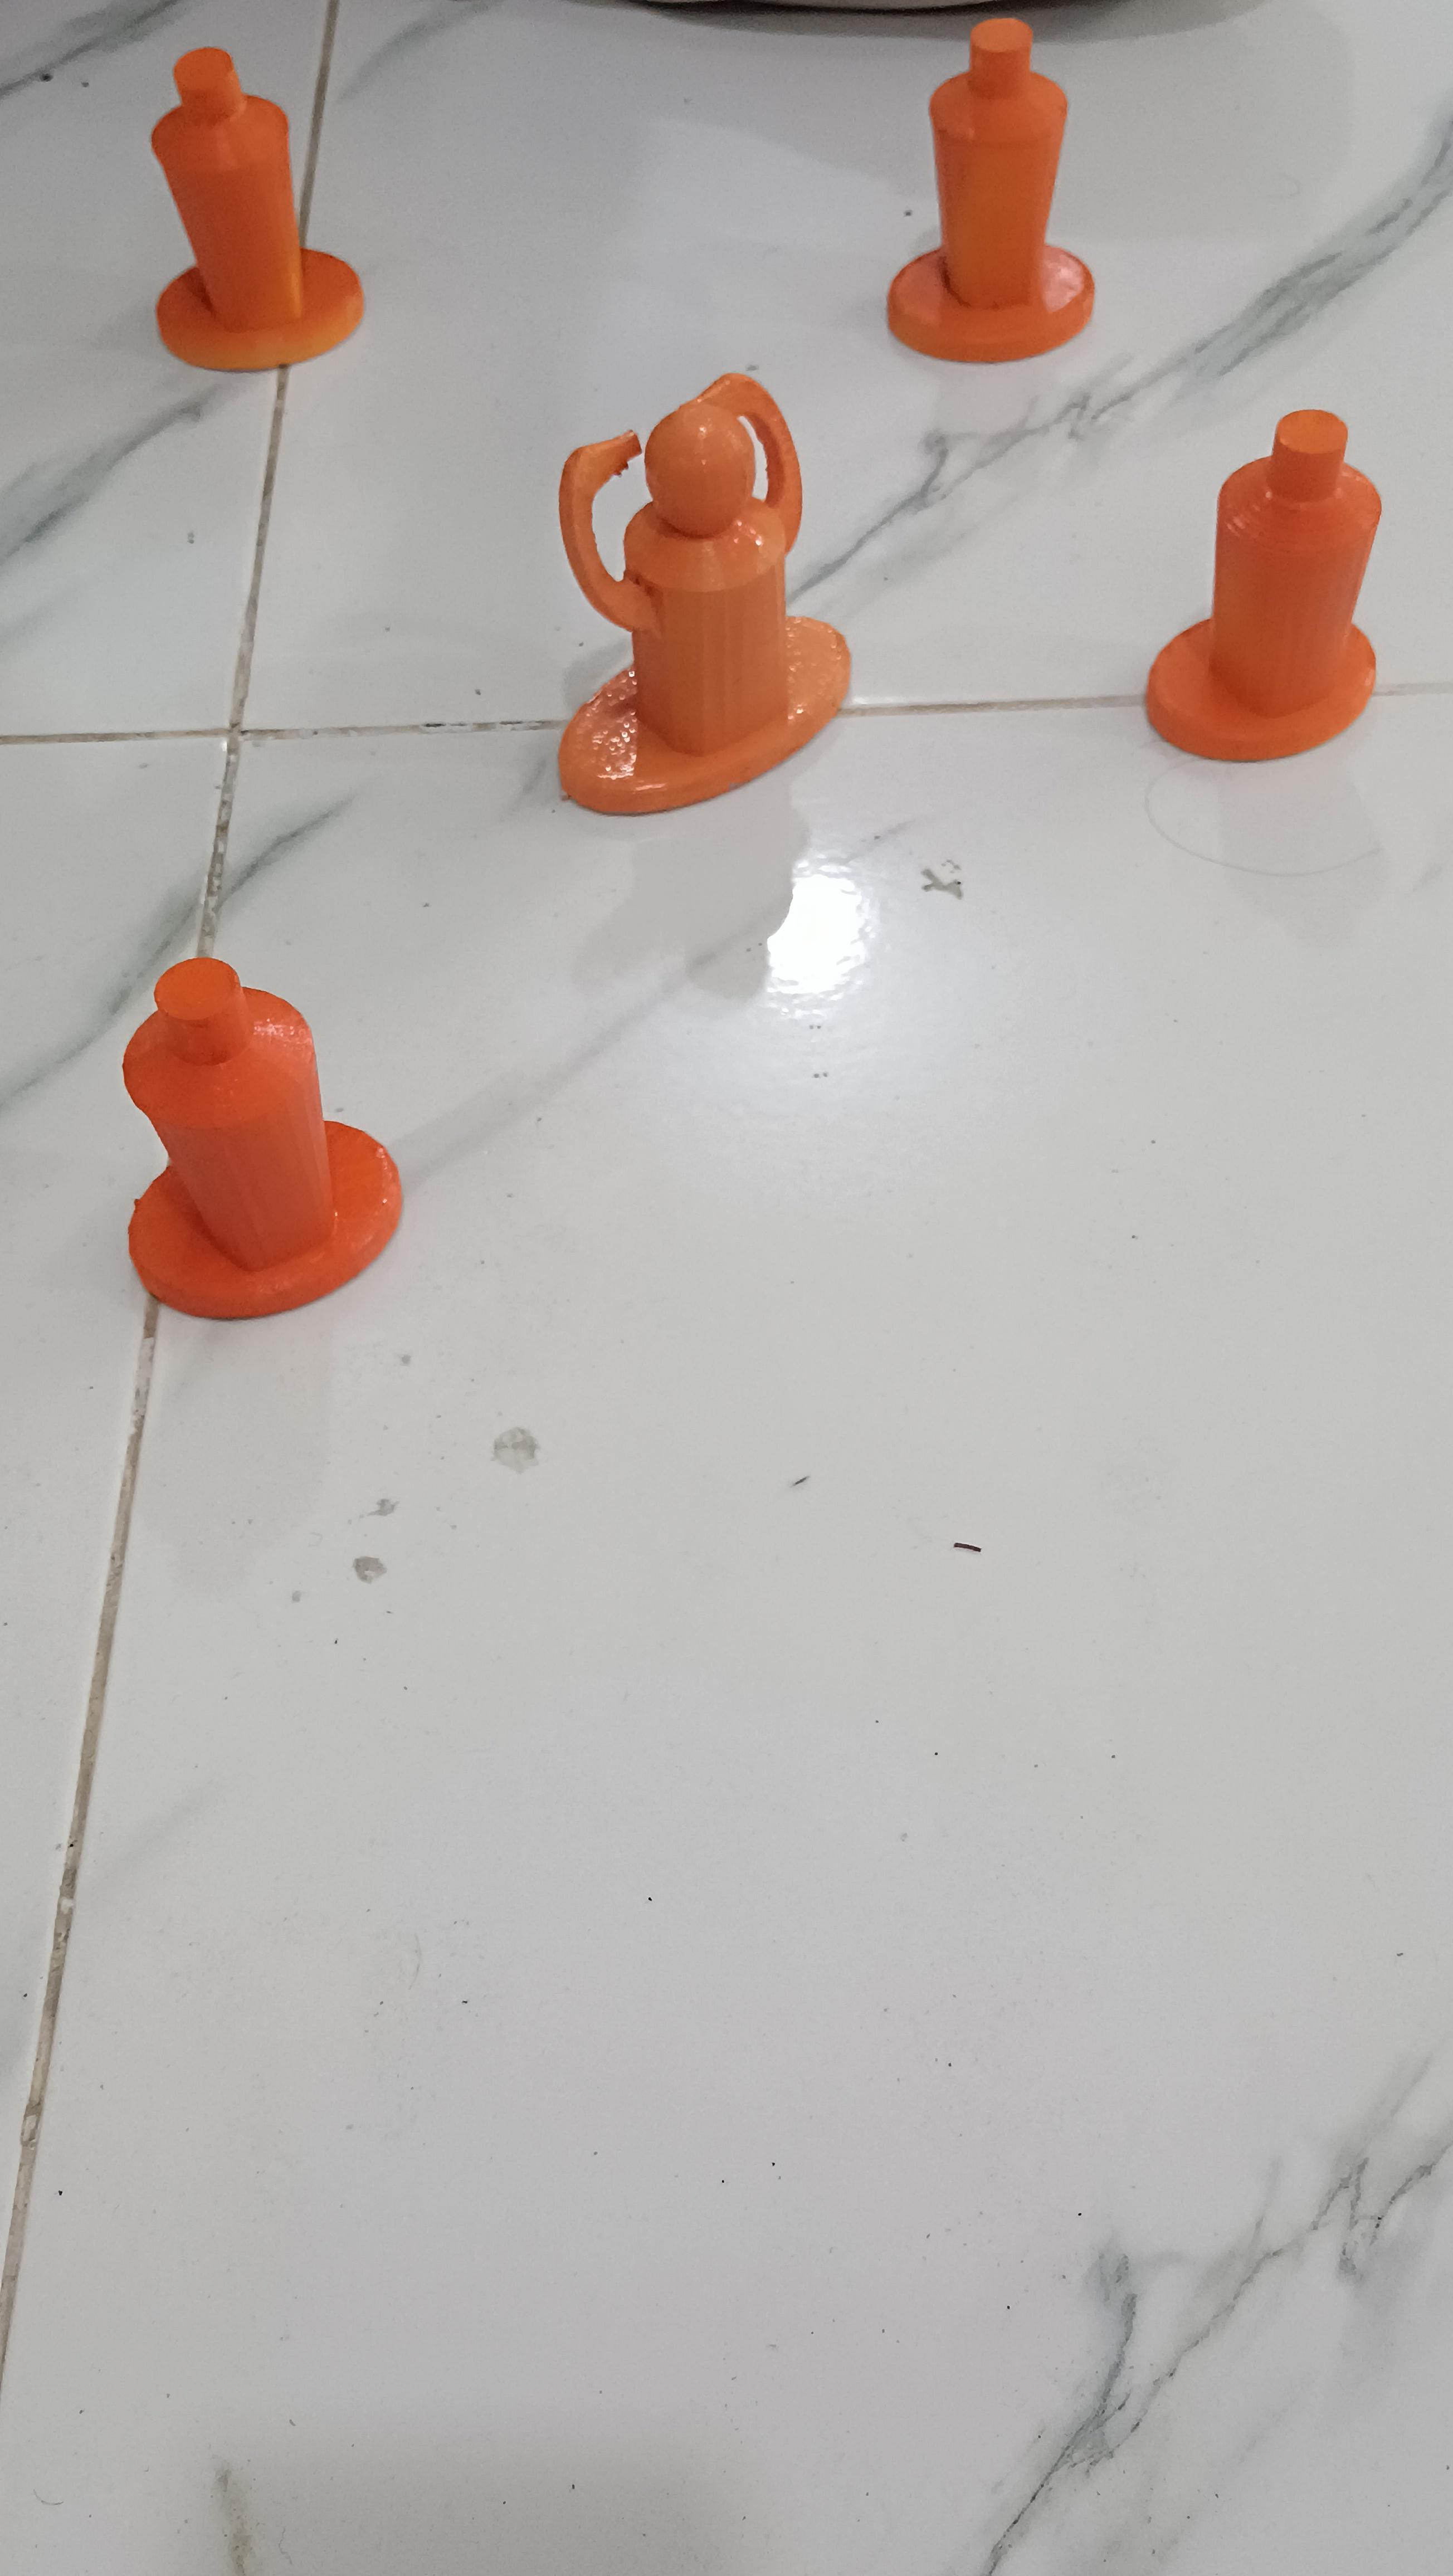dummy: (58, 941, 415, 1343), (1135, 390, 1416, 787), (100, 17, 386, 394), (877, 3, 1119, 379)
real_person: (526, 358, 862, 853)
